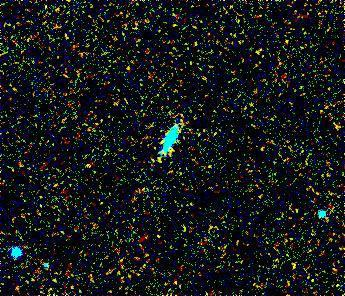star: (69, 151, 99, 181)
